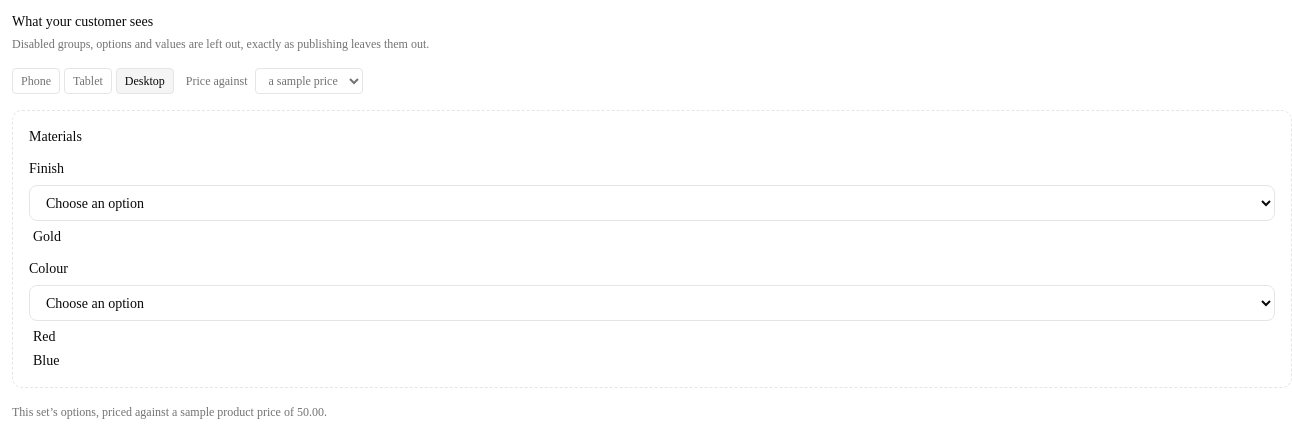
Test: SetPreview — interactive › hides a single value without hiding its option
Check: the text "Red" is shown, box 33,327 -> 56,347
Click the button "Gold": (47, 236) 29,227 -> 1275,247
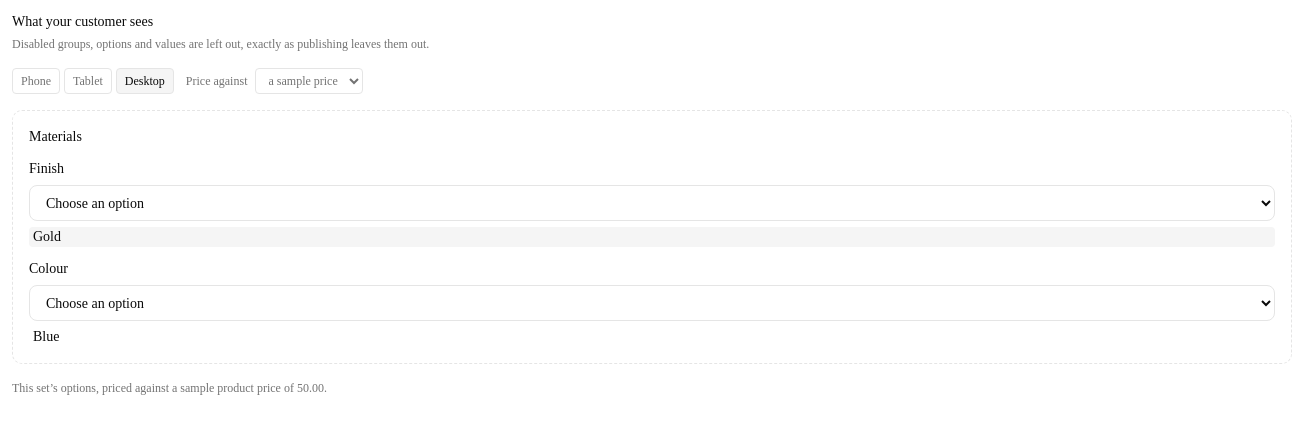
Check: the text "Blue" is shown, box 33,327 -> 60,347
Check: the button "Red" is gone
